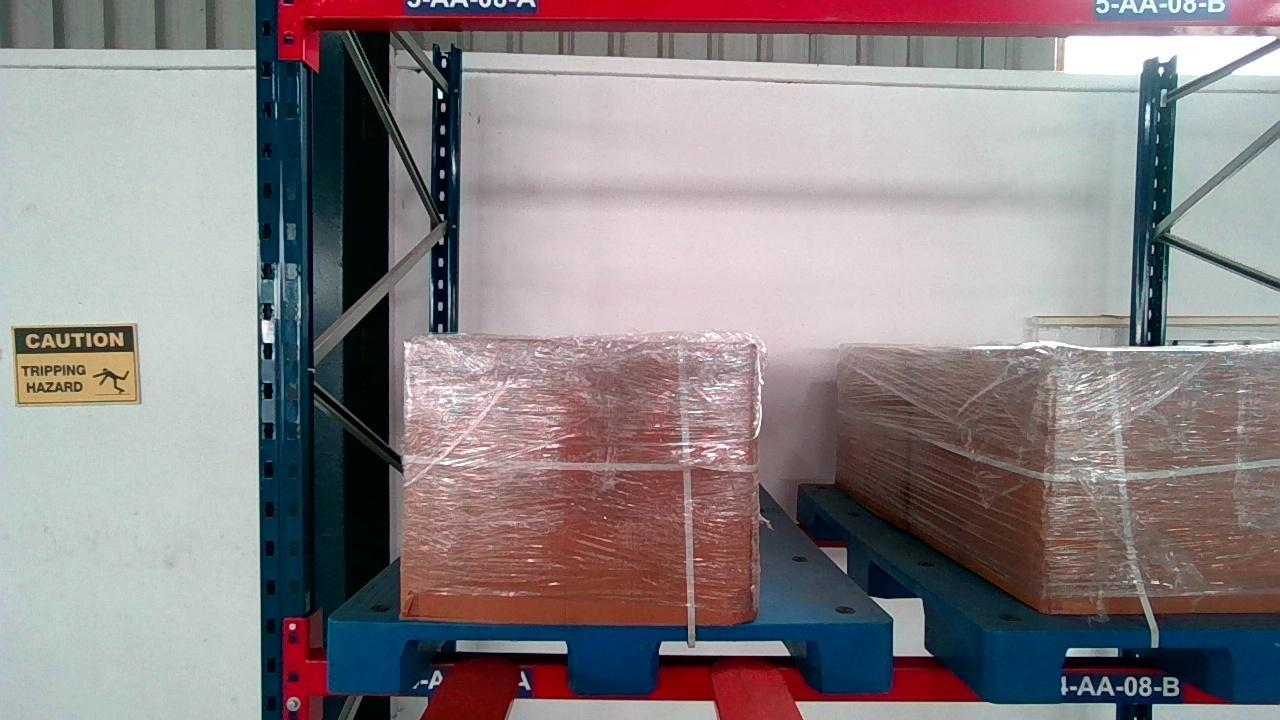small_pallet: (330, 618, 891, 688), (990, 629, 1277, 702)
